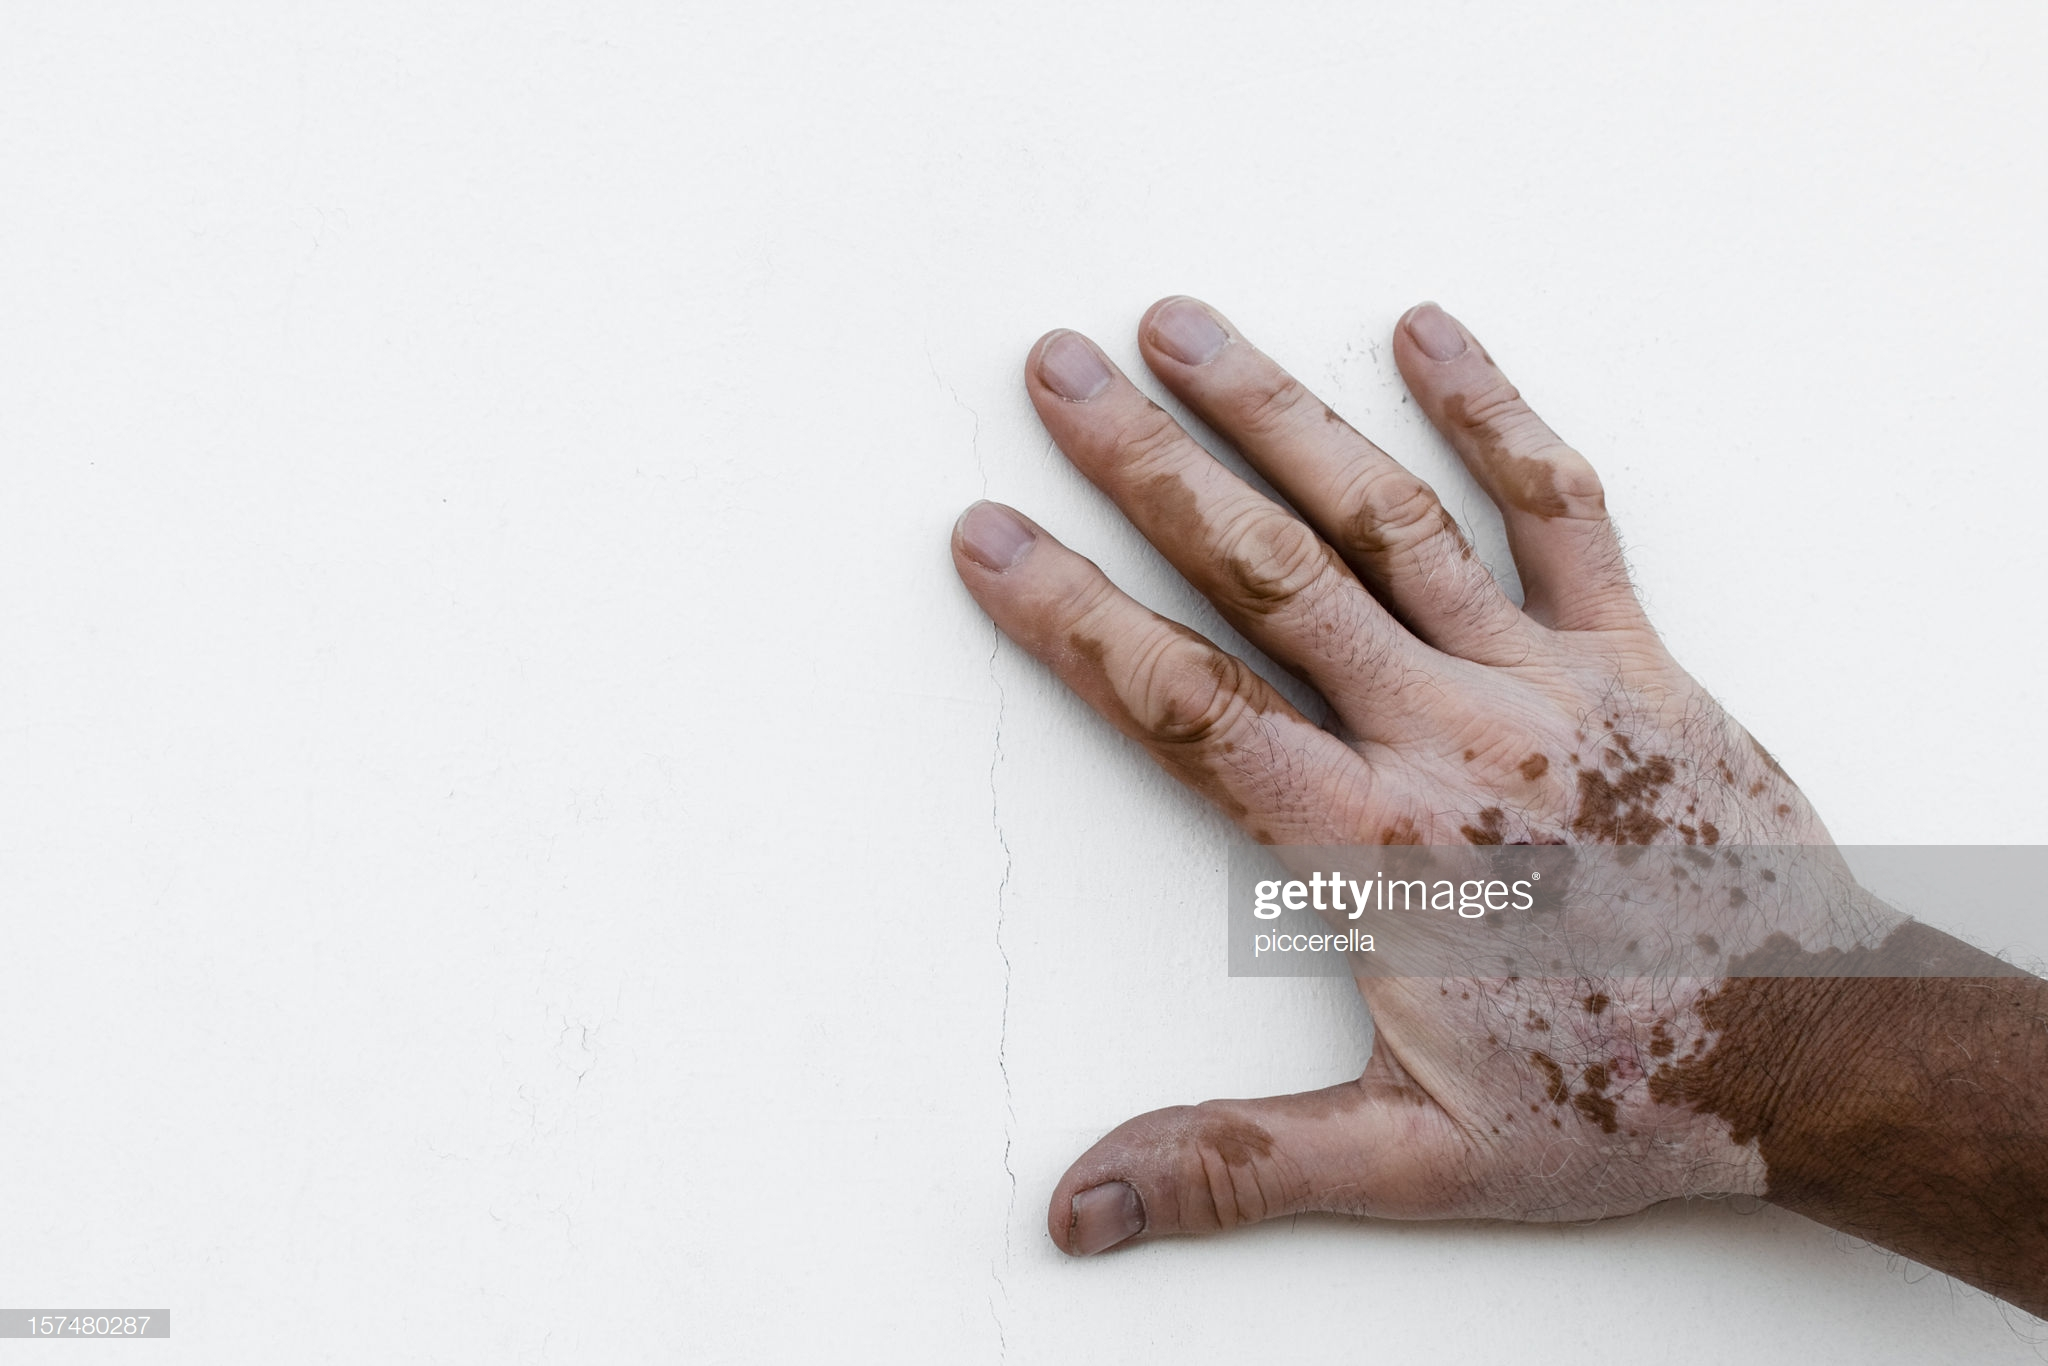vitiligo: (1006, 338, 1713, 834)
